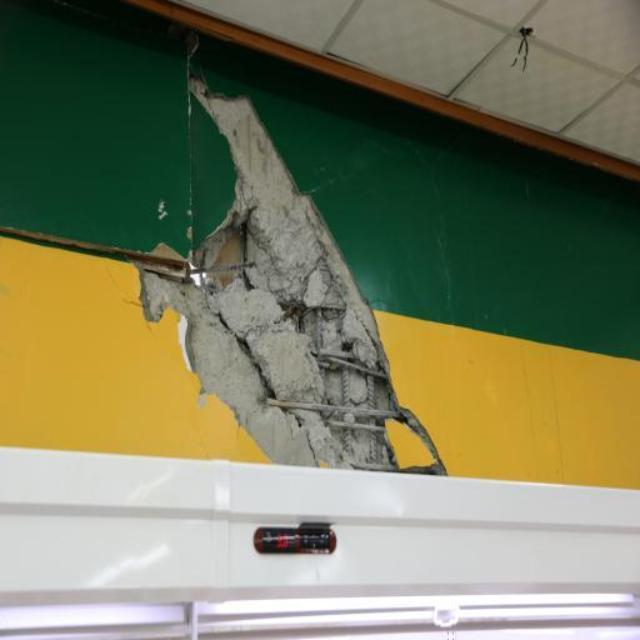D0w0: (150, 100, 416, 469), (254, 526, 337, 557)
